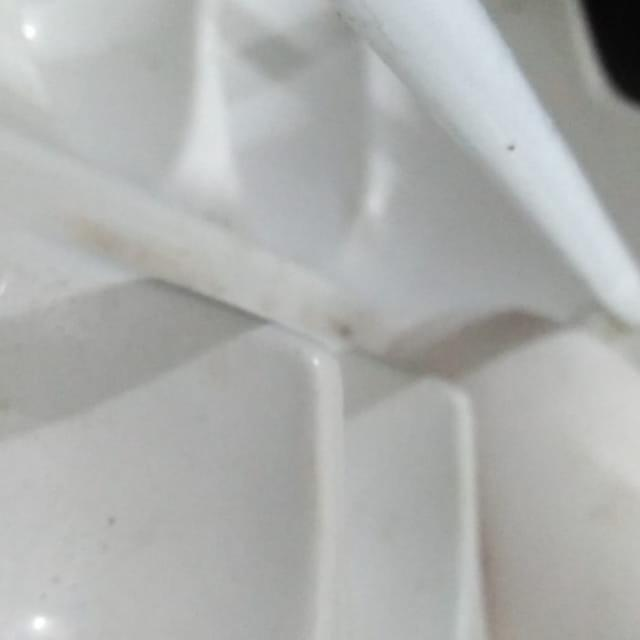egg: (443, 307, 640, 640)
